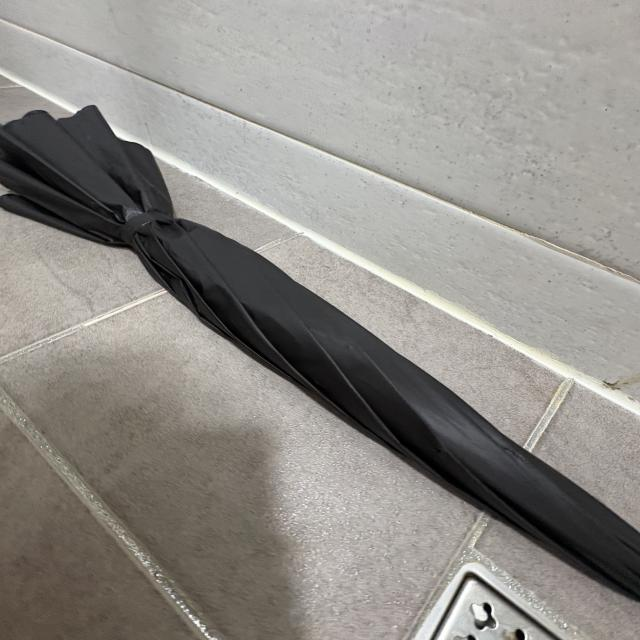umbrella: (0, 102, 640, 603)
